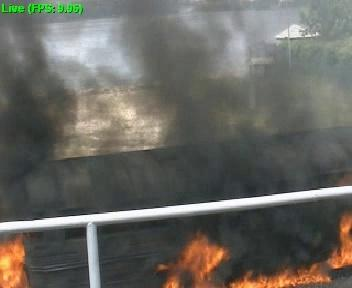fire: (180, 243, 214, 280), (242, 273, 313, 286), (2, 246, 25, 285), (338, 220, 352, 265)
smoke: (145, 27, 231, 236), (246, 66, 330, 255), (0, 17, 61, 237)
